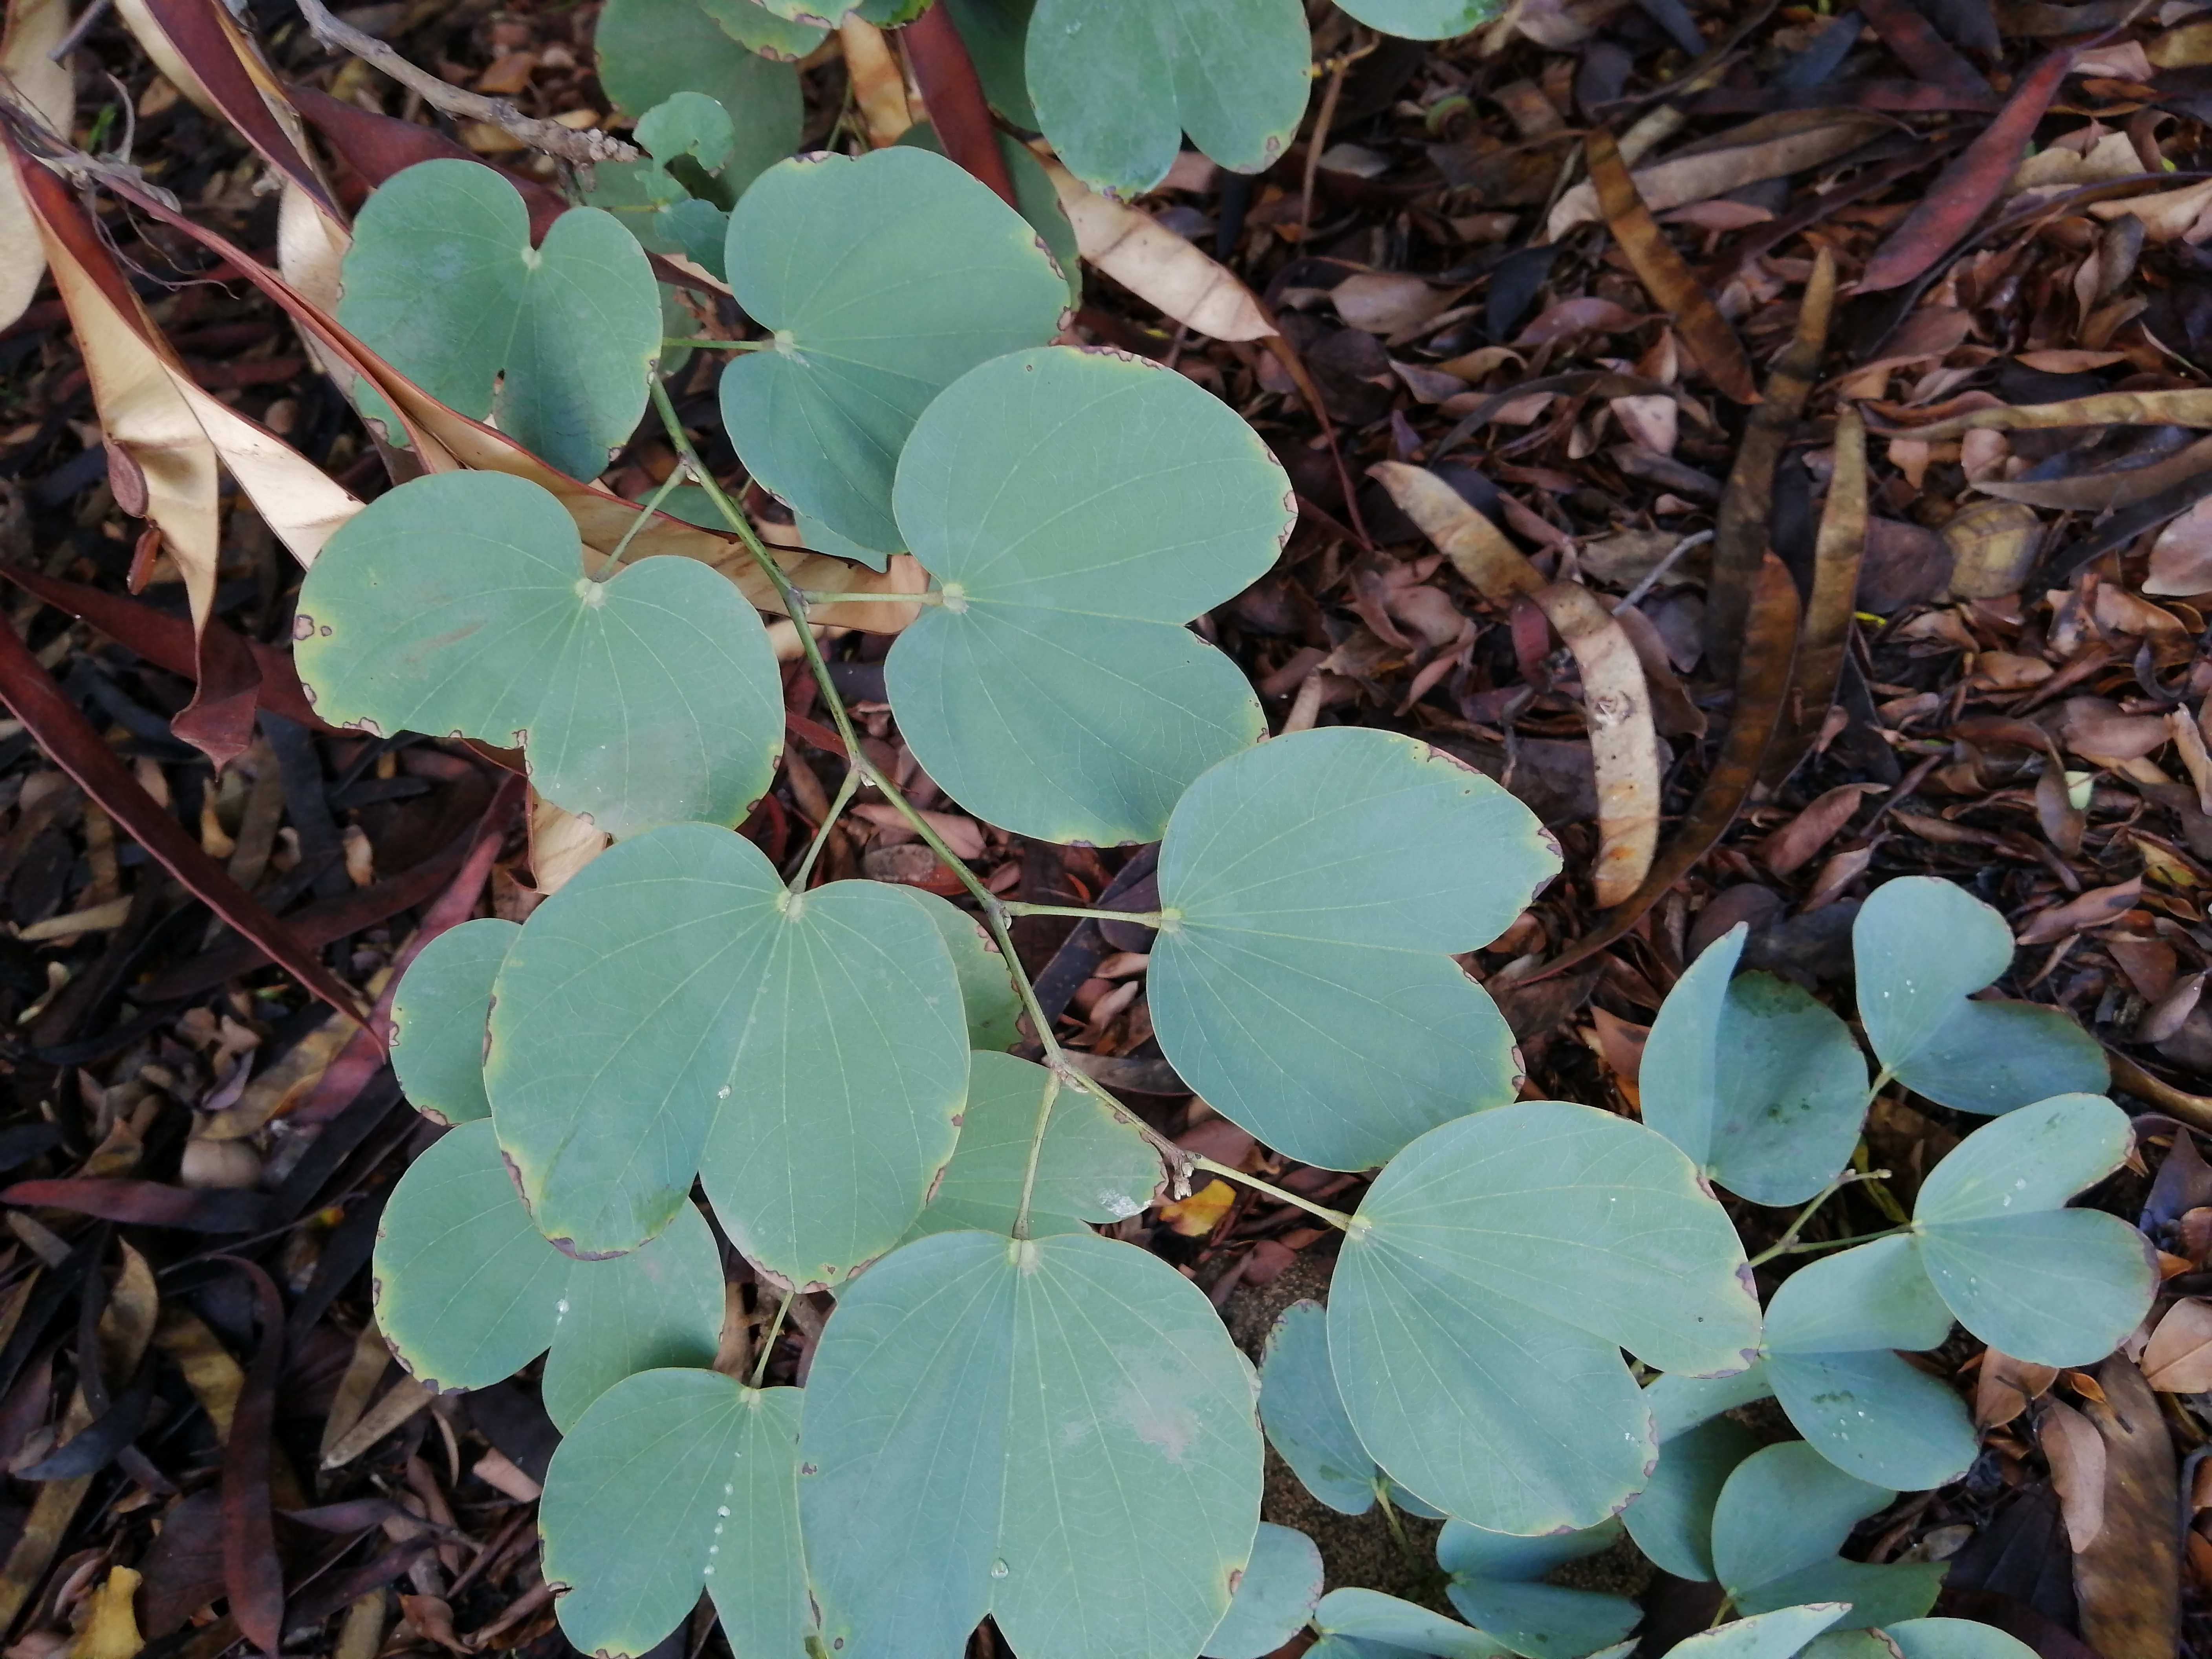healthy: (864, 404, 1231, 798), (1338, 1121, 1696, 1445)
nothealthy: (481, 856, 948, 1281)
